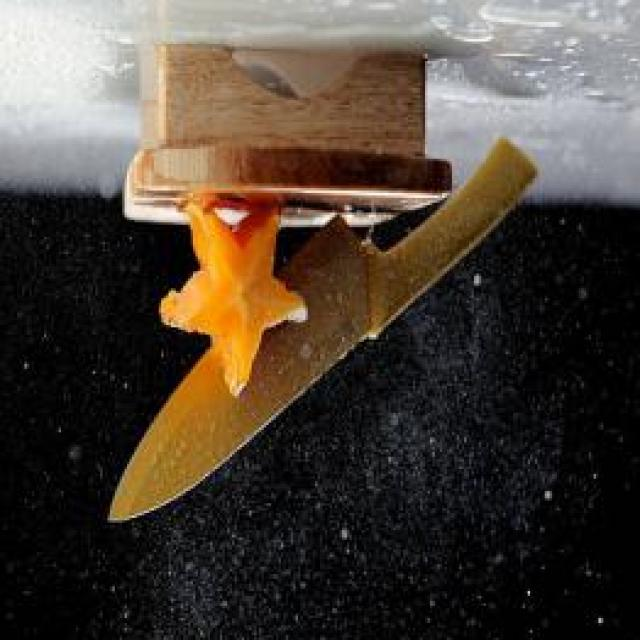knife: (108, 137, 542, 520)
